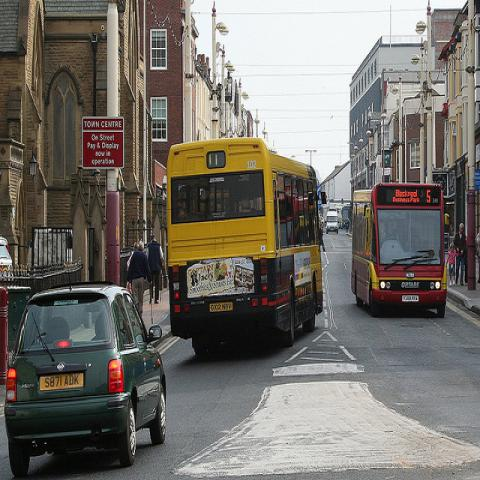bus: (166, 137, 327, 354), (349, 181, 447, 318)
car: (4, 280, 169, 477), (0, 237, 13, 266), (326, 210, 339, 235)
truck: (324, 211, 340, 234)
